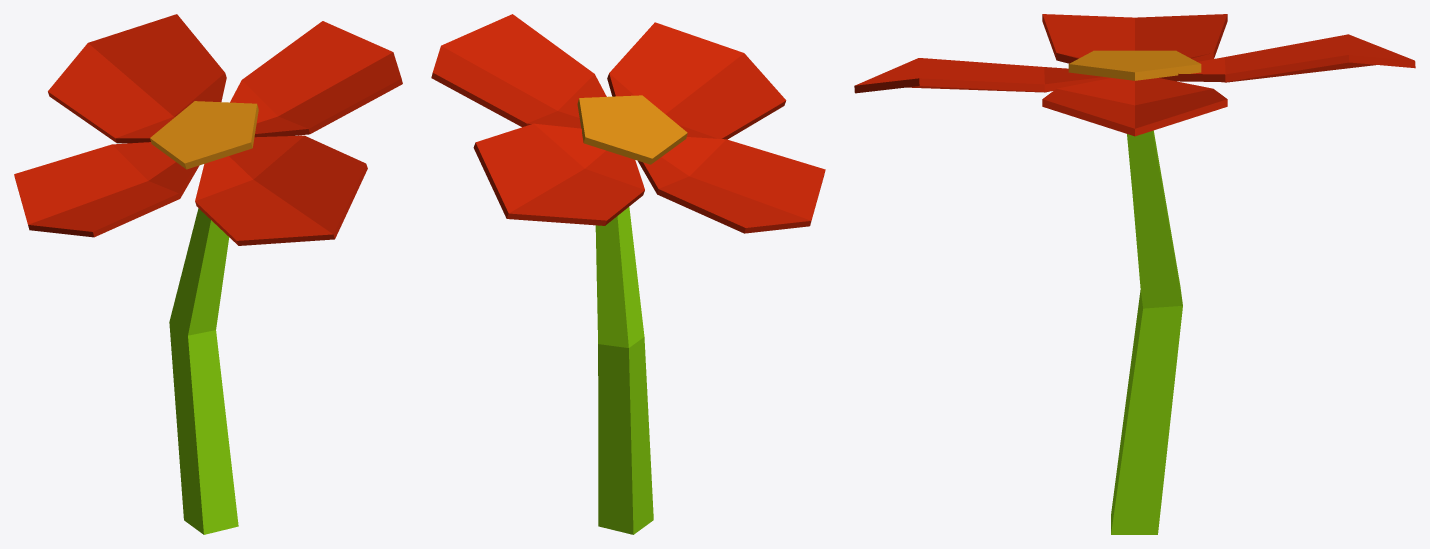
File: Flower3.fbx
3 renders of one model, left to right at view 1: azimuth 30°, elevation 25°; view 2: azimuth 150°, elevation 25°; view 3: azimuth 270°, elevation 25°, orthographic. The views are drawn at different scales.
Parts seen in each view (by area): view 1: Flower_Orange; view 2: Flower_Orange; view 3: Flower_Orange.
Part boxes in pixels (x1,y1,x2,y2): Flower_Orange: (14, 14, 402, 534); Flower_Orange: (431, 14, 825, 534); Flower_Orange: (854, 14, 1415, 534).
Bounding box in the file's own units: 3.52 × 3.98 × 4.01.
